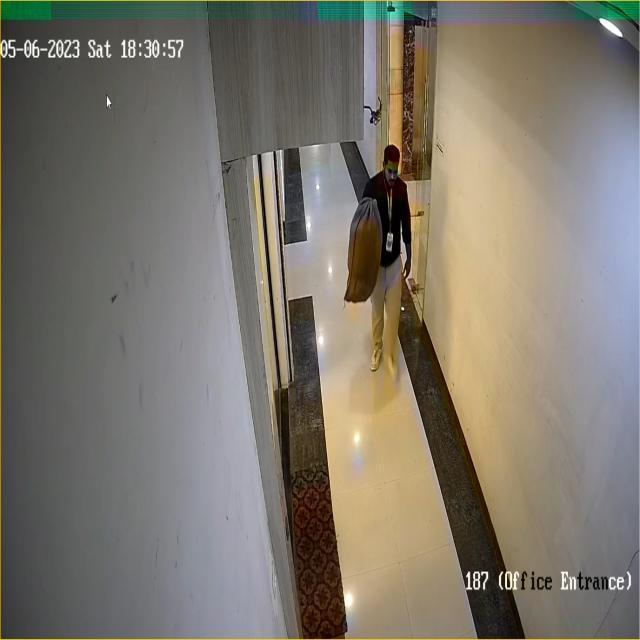gunny_bag: (342, 196, 387, 312)
